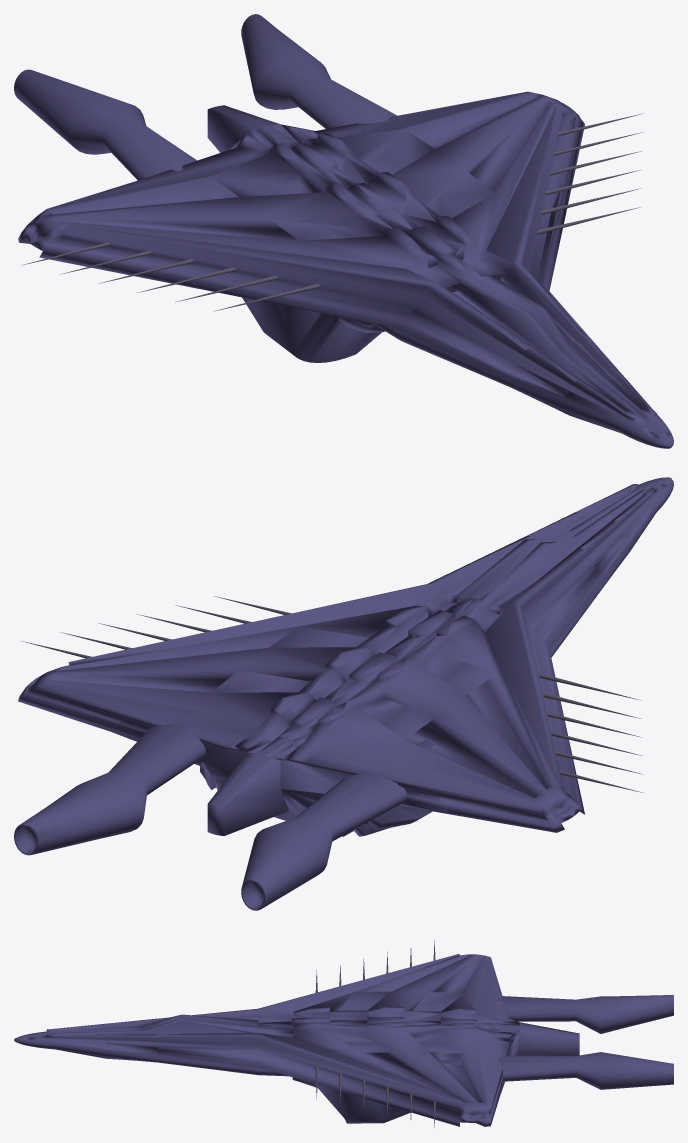
File: Wraith cruiser.dae
3 views of the same model, one above another, from view 1: azimuth 30°, elevation 25°; view 2: azimuth 150°, elevation 25°; view 3: azimuth 270°, elevation 25° (orthographic). The views are drawn at different scales.
Parts seen in each view (by area): view 1: Component_16, Component_15_1_2, Component_15; view 2: Component_16, Component_15, Component_15_1_2; view 3: Component_16, Component_15, Component_15_1_2.
Boxes of the visible parts, x1,y1,x2,y2 form: Component_16: [18, 91, 673, 448]; Component_15_1_2: [14, 69, 224, 200]; Component_15: [241, 14, 427, 143]; Component_16: [18, 477, 673, 836]; Component_15: [14, 722, 205, 855]; Component_15_1_2: [241, 739, 435, 910]; Component_16: [14, 954, 579, 1126]; Component_15: [441, 1052, 673, 1089]; Component_15_1_2: [498, 995, 673, 1033].
Size of the model in its own units: 38391 by 56647 by 7842.
Materials: 3 (2 with a texture image).
